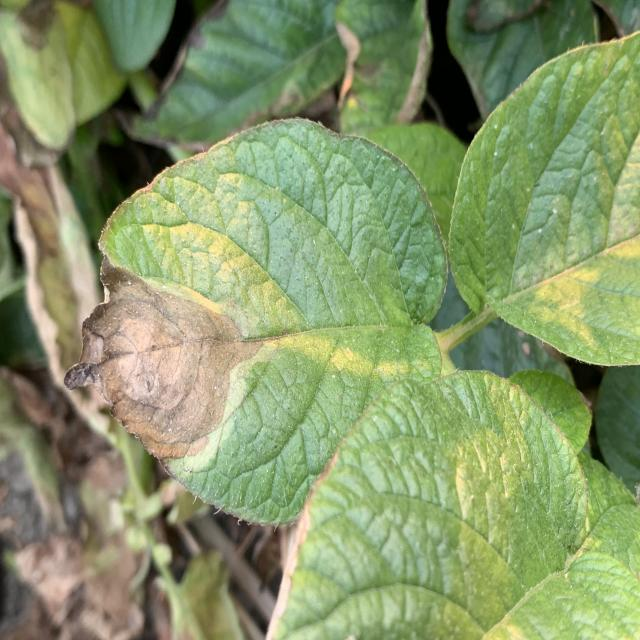lateblight: (65, 258, 262, 458)
